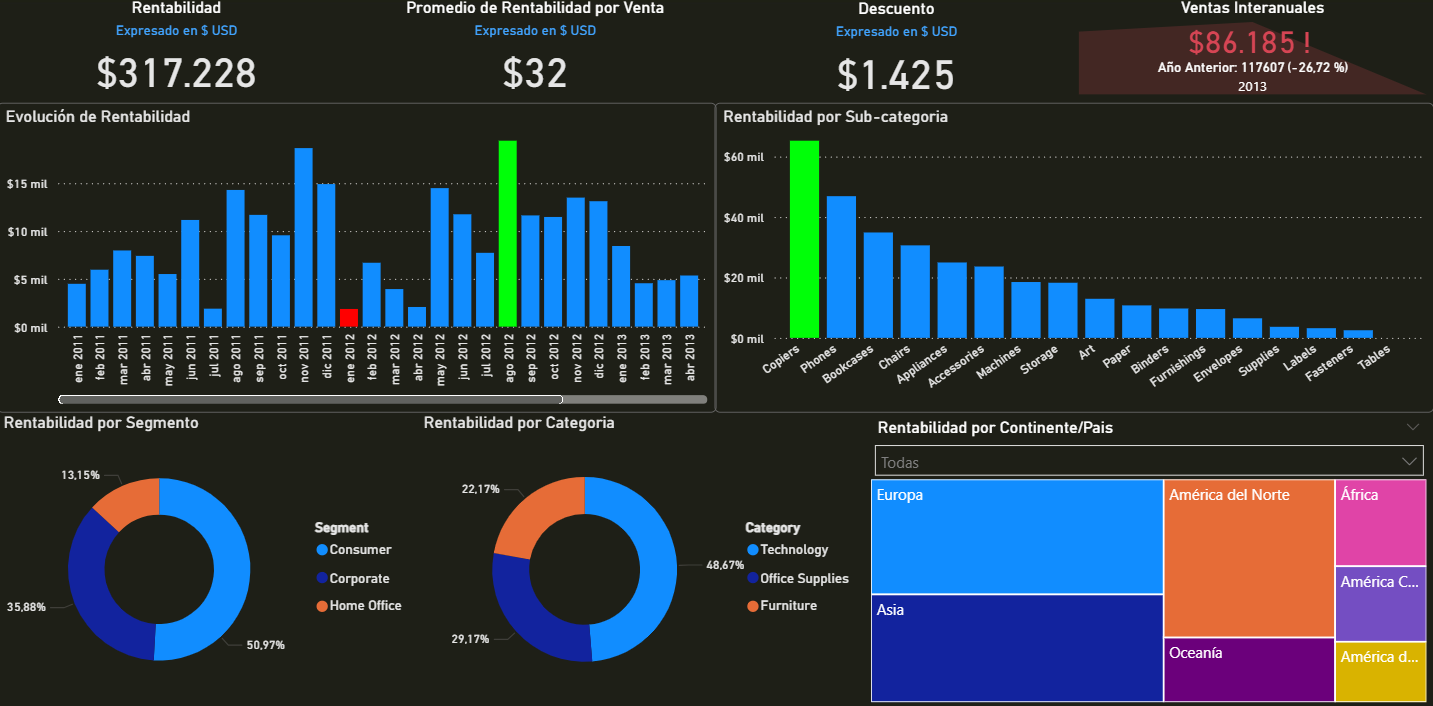

This screenshot's page, from the dashboard's own definition file:
{"tool":"powerbi","page":{"name":"Analisis de rentabilidad","canvas":[1280,720],"ordinal":2},"visuals":[{"type":"card","title":"Rentabilidad","fields":{"Values":["superstore_dataset.Rentabilidad Total"]},"box":[0,87.8,319.6,91.3],"z":0},{"type":"kpi","title":"Ventas Interanuales","fields":{"TrendLine":["Dim Fechas.Año"],"Indicator":["Medidas.Rentabilidad Total"],"Goal":["Medidas.Total de Rentabilidad Año Anterior"]},"box":[958.8,87.8,319.6,91.3],"z":1000},{"type":"slicer","fields":{"Values":["Dim Fechas.Año"]},"box":[309.1,0,194.9,86],"z":2000},{"type":"slicer","fields":{"Values":["Dim Fechas.Trimestre"]},"box":[504,0,183.5,86],"z":3000},{"type":"slicer","fields":{"Values":["Dim Fechas.Mes"]},"box":[687.5,0,194.9,86],"z":4000},{"type":"textbox","box":[79.9,0,229.2,86],"z":5000},{"type":"image","box":[1210.8,0,67.6,67.6],"z":6000},{"type":"clusteredColumnChart","title":"Evolución de Rentabilidad","fields":{"Category":["Dim Fechas.MesAño"],"Y":["Medidas.Rentabilidad Total"]},"box":[0,181,640.6,276.4],"z":7000},{"type":"clusteredColumnChart","title":"Rentabilidad por Sub-categoria","fields":{"Category":["Sub-Category (SUBC-ID).Sub-Category"],"Y":["Medidas.Rentabilidad Total"]},"box":[639.2,181,640.6,276.4],"z":8000},{"type":"donutChart","title":"Rentabilidad por Categoria","fields":{"Category":["Category (CAT-ID).Category"],"Y":["Medidas.Rentabilidad Total"]},"box":[374.9,457.5,397.8,262.5],"z":9000},{"type":"donutChart","title":"Rentabilidad por Segmento","fields":{"Y":["Medidas.Rentabilidad Total"],"Category":["Segment.Segment"]},"box":[0.9,457.5,374,262.5],"z":10000},{"type":"card","title":"Descuento","fields":{"Values":["Medidas.Total de Descuento"]},"box":[641,89.6,319.6,91.3],"z":11000},{"type":"card","title":"Promedio de Rentabilidad por Venta","fields":{"Values":["Medidas.Rentavilidadmedia"]},"box":[319.6,87.8,319.6,91.3],"z":12000},{"type":"treemap","fields":{"Group":["Country (COUNT-ID).Continent"],"Values":["Medidas.Rentabilidad Total"]},"box":[773.9,511.7,504.6,208.3],"z":13000},{"type":"slicer","fields":{"Values":["Country (COUNT-ID).Country"]},"box":[771,457.8,508.8,66.6],"z":14000},{"type":"image","box":[882.4,0,57.1,43],"z":15000},{"type":"image","box":[1143.2,0,67.6,67.6],"z":16000},{"type":"image","box":[1008,0,67.6,67.6],"z":17000},{"type":"image","box":[0.9,0,79,85.2],"z":18000},{"type":"image","box":[1075.6,0,67.6,67.6],"z":19000}]}

Visuals, with their boxes on the page's 1280x720 design canvas (x1, y1, x2, y2). These are canvas units, not pixel positions in the 1433x706 screenshot, which may show the page scaled, cropped or inside an application window:
"Rentabilidad" card: [0,88,320,179]
"Ventas Interanuales" kpi: [959,88,1278,179]
slicer - Dim Fechas.Año: [309,0,504,86]
slicer - Dim Fechas.Trimestre: [504,0,688,86]
slicer - Dim Fechas.Mes: [688,0,882,86]
textbox: [80,0,309,86]
image: [1211,0,1278,68]
"Evolución de Rentabilidad" clusteredColumnChart: [0,181,641,457]
"Rentabilidad por Sub-categoria" clusteredColumnChart: [639,181,1280,457]
"Rentabilidad por Categoria" donutChart: [375,458,773,720]
"Rentabilidad por Segmento" donutChart: [1,458,375,720]
"Descuento" card: [641,90,961,181]
"Promedio de Rentabilidad por Venta" card: [320,88,639,179]
treemap - Country (COUNT-ID).Continent x Medidas.Rentabilidad Total: [774,512,1278,720]
slicer - Country (COUNT-ID).Country: [771,458,1280,524]
image: [882,0,940,43]
image: [1143,0,1211,68]
image: [1008,0,1076,68]
image: [1,0,80,85]
image: [1076,0,1143,68]
